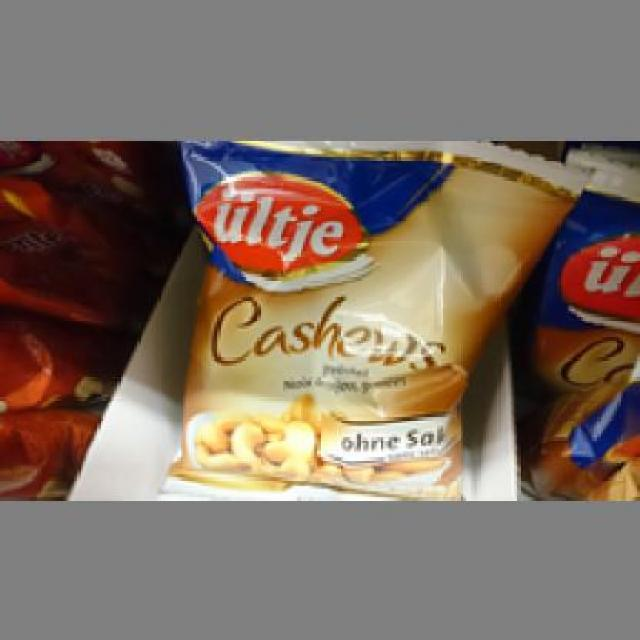Nuts: (171, 140, 584, 494)
